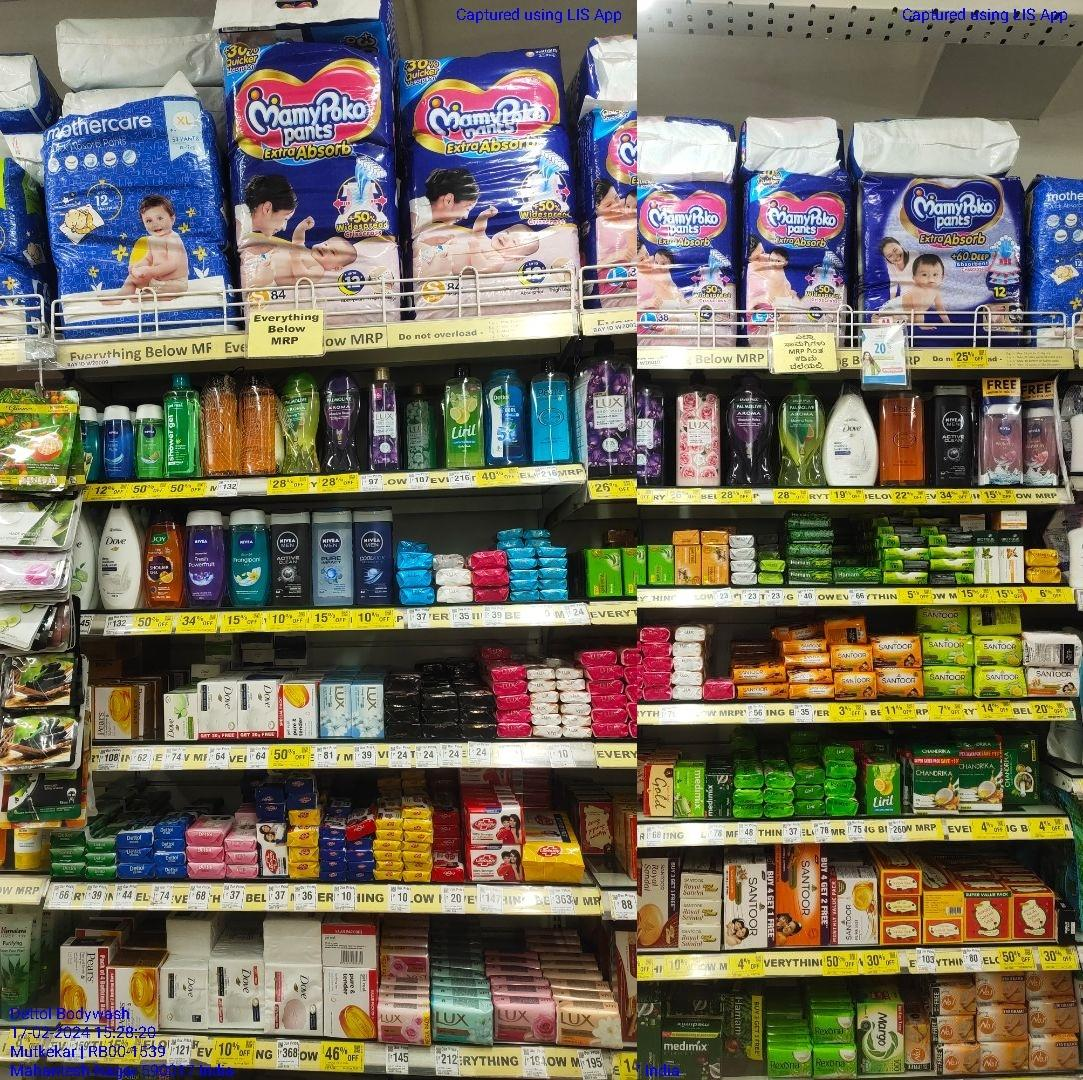Dettol_Bodywash_Cool: (484, 363, 527, 464)
Dove_Deep_Moisture_Body_Wash_250ML: (98, 504, 143, 608)
Joy_Shower_Gel_Mandarin_and_Lemongrass_250ML: (148, 506, 185, 607)
Liril_Lime_and_Tea_Tree_Oil_Body_Wash_250ML: (447, 361, 483, 469)
Lux_Black_Orchid_Scent_and_Juniper_Oil_Body_Wash_245ML: (371, 364, 400, 470)
Lux_Body_Wash_Skin_Detox_Freesia_Scent_and_Alove_Vera_245ML: (402, 378, 437, 470)
Nivea_Shower_Gel_Frangipani_and_Oil_250ML: (230, 509, 268, 607)
Nivea_Shower_Gel_Fresh_Powerfruit_250ML: (187, 509, 228, 607)
Nivea_Shower_Gel_Lemon_and_Oil_250ML: (136, 404, 166, 481)
Palmolive_Aroma_Morning_Tonic_Shower_Gel_250ML: (280, 371, 320, 477)
Palmolive_Aroma_Relax_250ML: (323, 366, 360, 470)
Pears_Pure_Glycerin_and_Mint_Extracts_Body_Wash_250ML: (529, 355, 572, 463)
